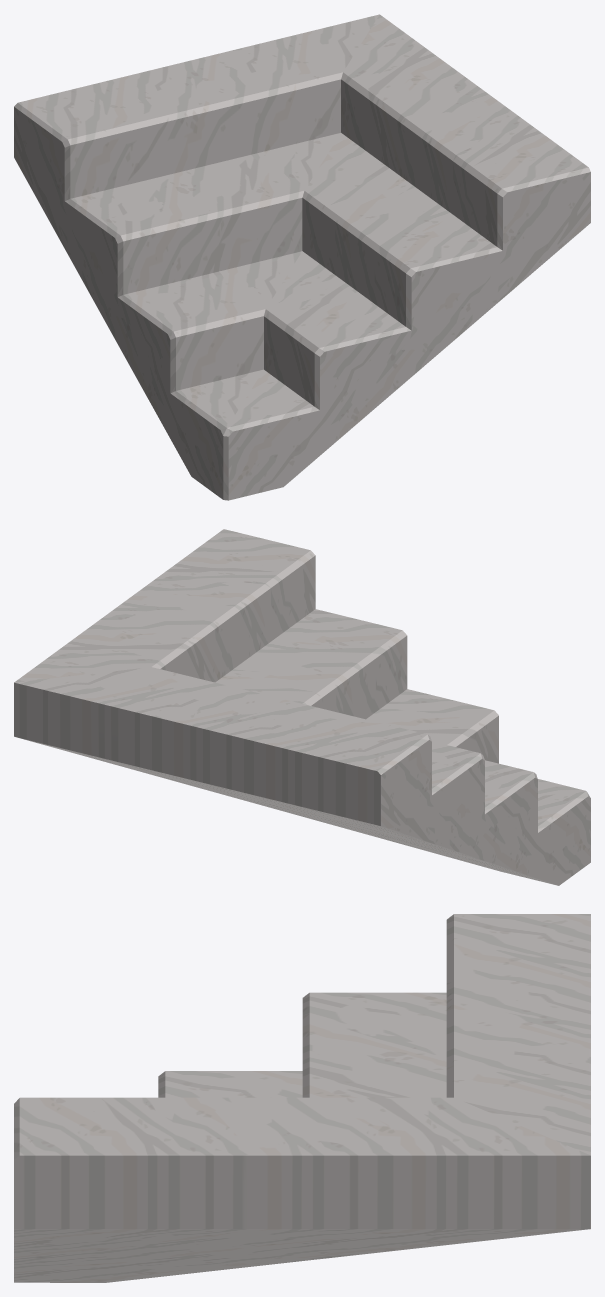
File: SM_Bld_Step_01_Corner_02.fbx
3 renders of one model, top to bottom at view 1: azimuth 30°, elevation 25°; view 2: azimuth 150°, elevation 25°; view 3: azimuth 270°, elevation 25°, orthographic. The views are drawn at different scales.
Parts seen in each view (by area): view 1: SM_Bld_Step_01_Corner_02; view 2: SM_Bld_Step_01_Corner_02; view 3: SM_Bld_Step_01_Corner_02.
Boxes of the visible parts, <box> form: SM_Bld_Step_01_Corner_02: <box>14,14,590,500</box>; SM_Bld_Step_01_Corner_02: <box>14,529,590,885</box>; SM_Bld_Step_01_Corner_02: <box>14,914,590,1282</box>.
Bounding box in the file's own units: 250 × 159 × 250.
